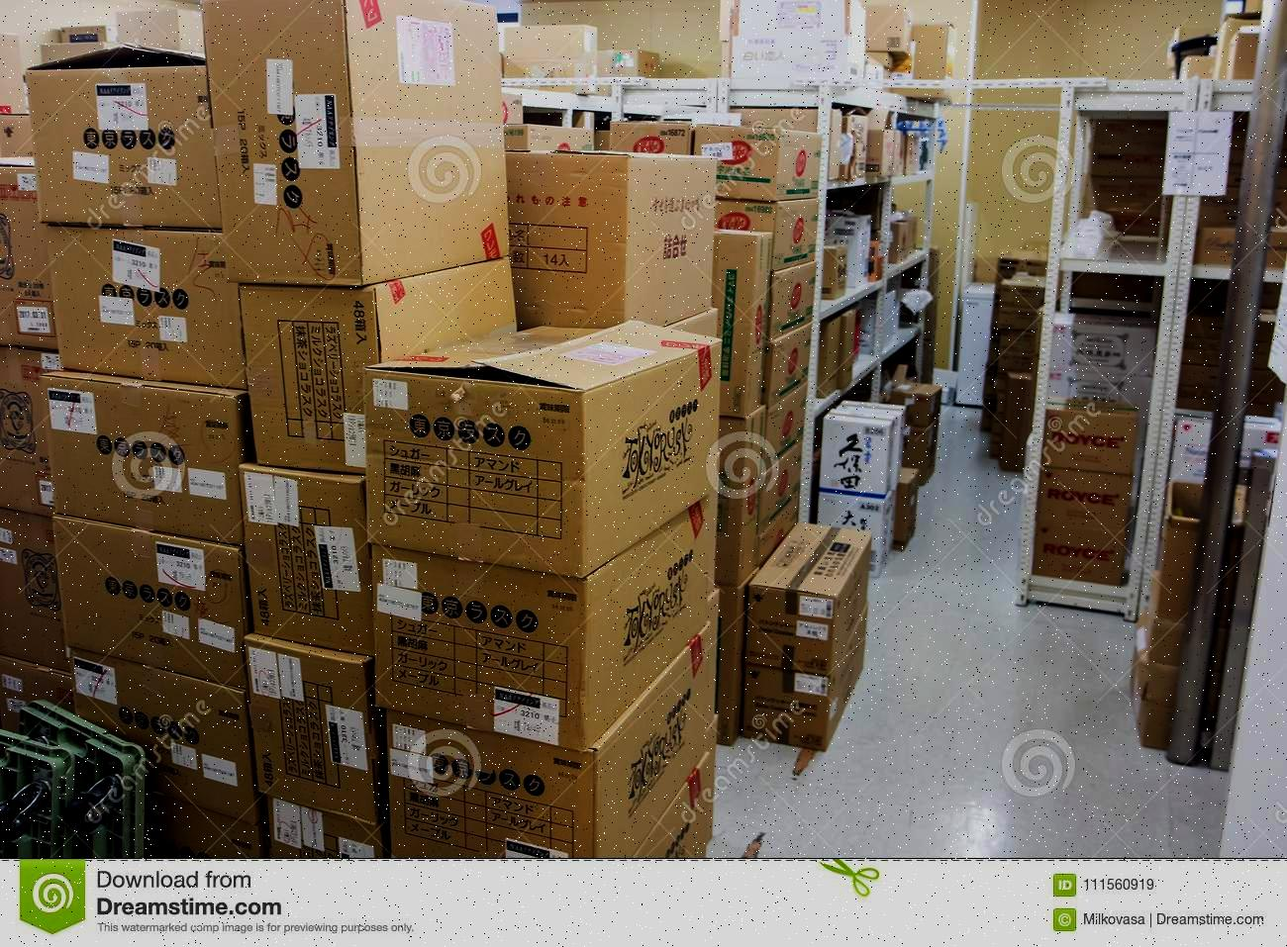Box: (371, 491, 716, 756), (202, 0, 515, 288), (371, 328, 717, 578), (383, 630, 711, 860), (241, 261, 518, 477), (507, 149, 719, 329), (28, 44, 218, 233), (49, 515, 249, 692), (47, 375, 244, 542), (50, 228, 244, 394), (741, 520, 874, 746), (76, 657, 252, 824), (249, 467, 374, 656), (254, 638, 375, 827), (0, 348, 68, 516), (686, 125, 822, 204), (3, 168, 57, 358), (725, 231, 773, 421), (819, 404, 909, 497), (719, 410, 760, 589), (1044, 399, 1139, 475), (814, 485, 895, 570), (1039, 467, 1131, 533), (1033, 525, 1126, 584), (765, 263, 822, 344), (755, 440, 803, 535), (761, 382, 804, 471), (812, 309, 855, 394), (757, 486, 800, 568), (768, 322, 809, 405), (888, 382, 944, 432), (610, 125, 694, 155), (509, 125, 597, 151), (898, 466, 918, 553)
